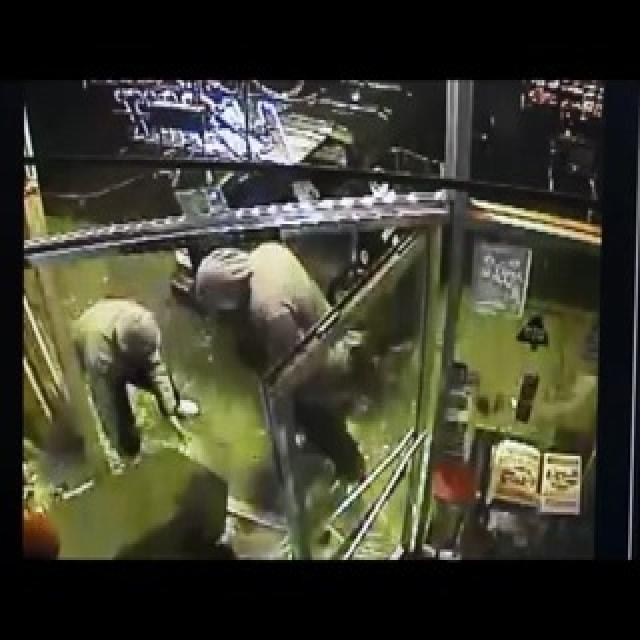thief: (68, 194, 337, 429)
